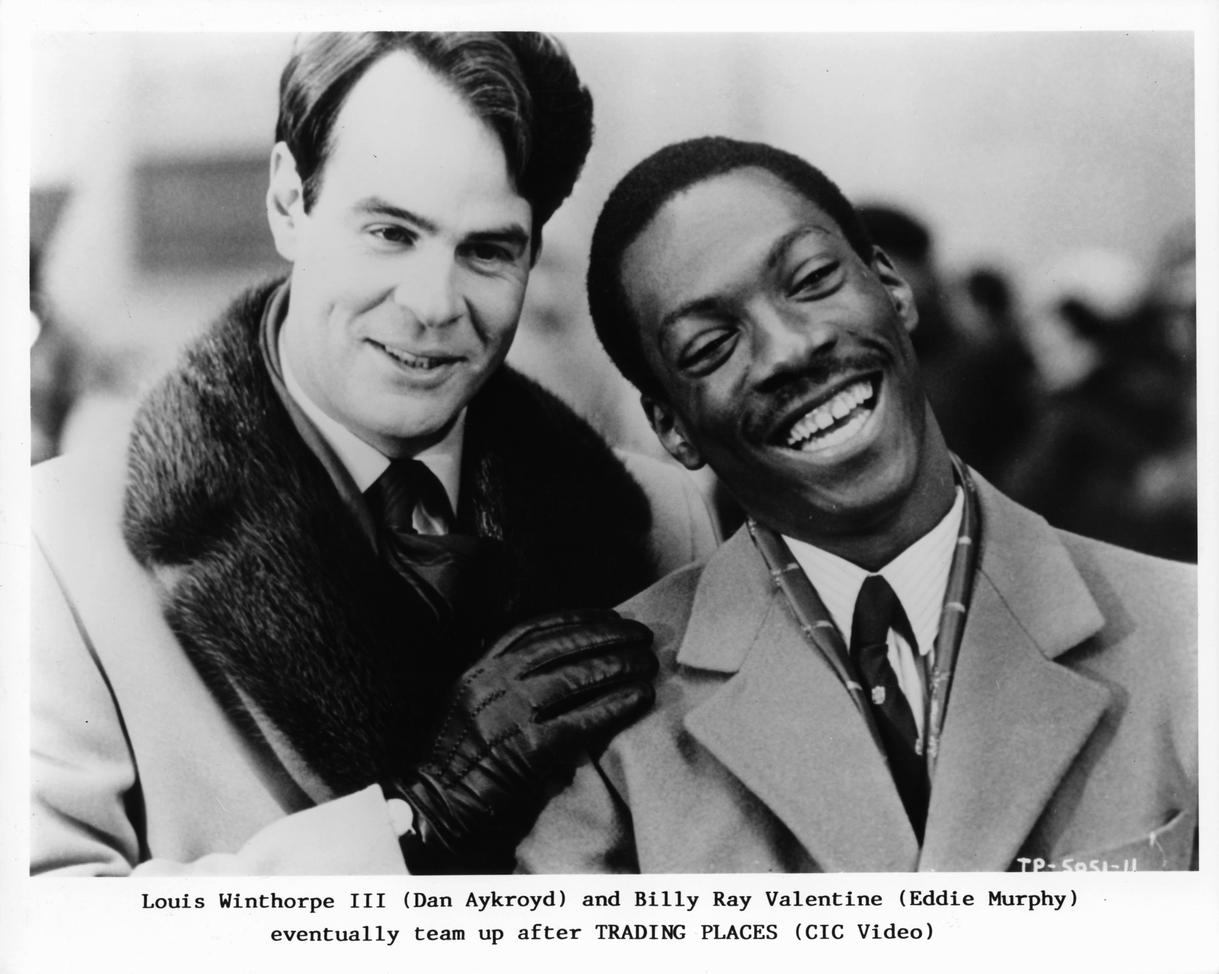33: (597, 126, 960, 567)
35: (264, 31, 571, 495)
Coat: (32, 275, 728, 879), (505, 452, 1195, 874)
Gloves: (396, 587, 667, 875)
Male: (597, 126, 960, 567), (264, 31, 571, 495)
Shirt: (775, 483, 985, 765), (262, 317, 484, 534)
Tie: (344, 436, 520, 632), (847, 571, 941, 848)
Watch: (375, 781, 435, 877)
